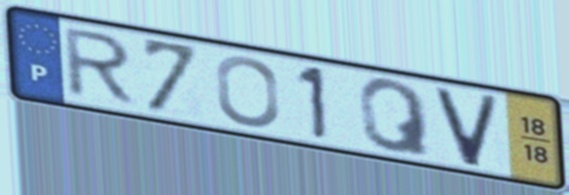1: (294, 64, 331, 143)
7: (139, 35, 203, 118)
O: (213, 54, 283, 129)
Q: (355, 77, 435, 160)
R: (62, 25, 140, 108)
V: (430, 84, 503, 170)
